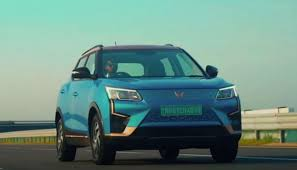XUV 400: (53, 40, 241, 165)
